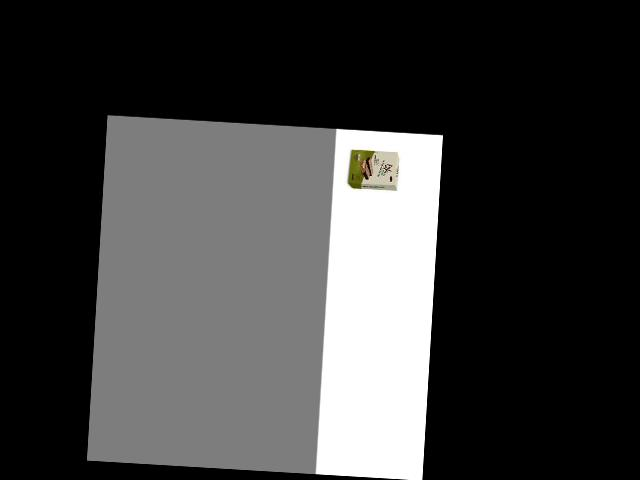chocolate: (346, 148, 400, 194)
